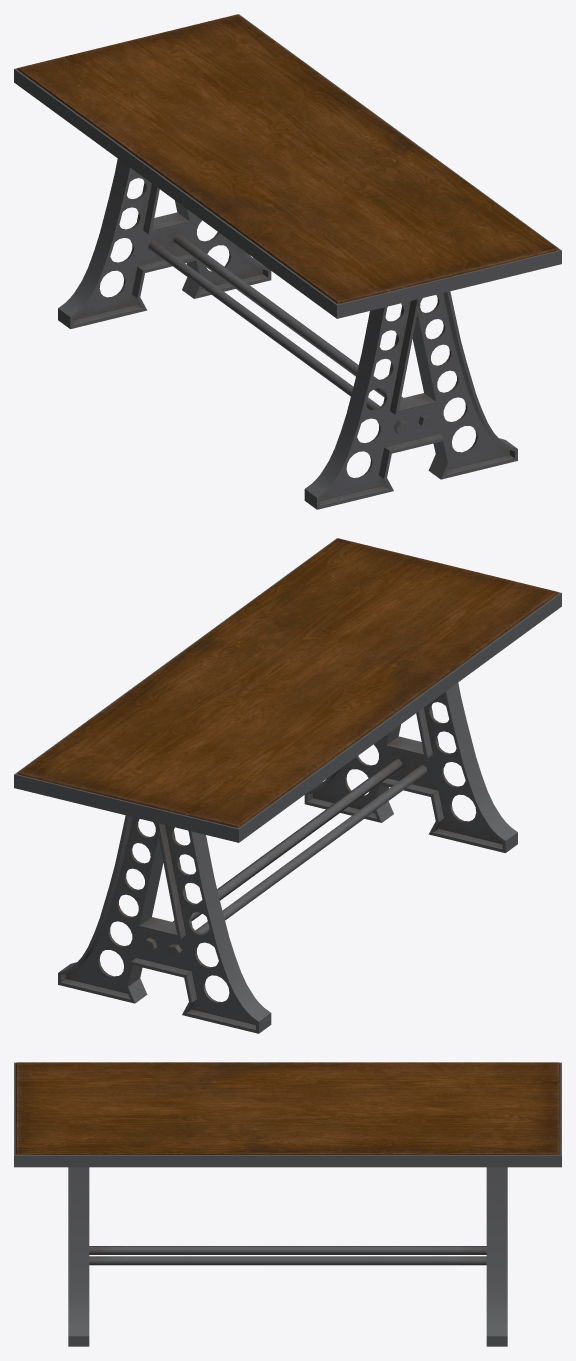
File: SynthTable.fbx
The picture shows the model from 3 angles, top to bottom: view 1: azimuth 30°, elevation 25°; view 2: azimuth 150°, elevation 25°; view 3: azimuth 270°, elevation 25°; orthographic projection. The views are drawn at different scales.
Parts seen in each view (by area): view 1: table_lp; view 2: table_lp; view 3: table_lp.
Part boxes in pixels (x1,y1,x2,y2): table_lp: (14, 14, 561, 509); table_lp: (14, 538, 561, 1033); table_lp: (14, 1062, 561, 1346).
Size of the model in its own units: 8066 by 7966 by 20066.
